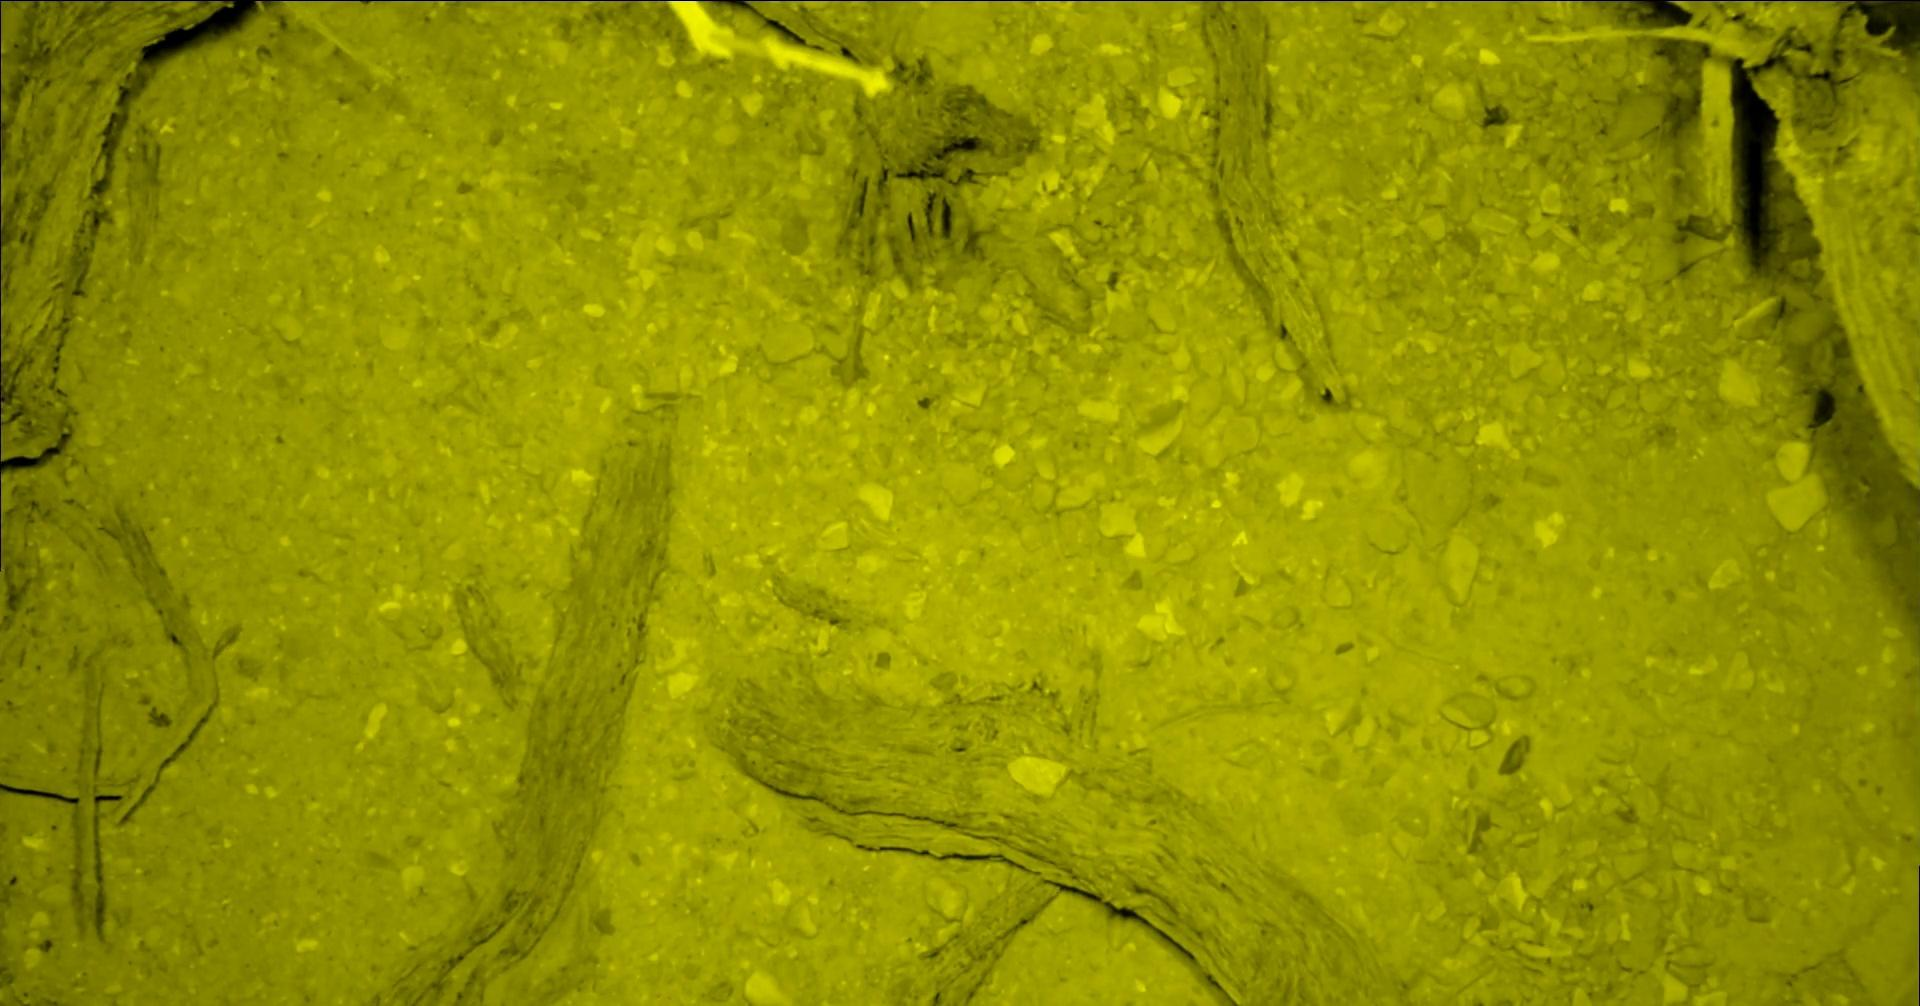ant: (0, 0, 75, 3), (80, 0, 133, 1)
